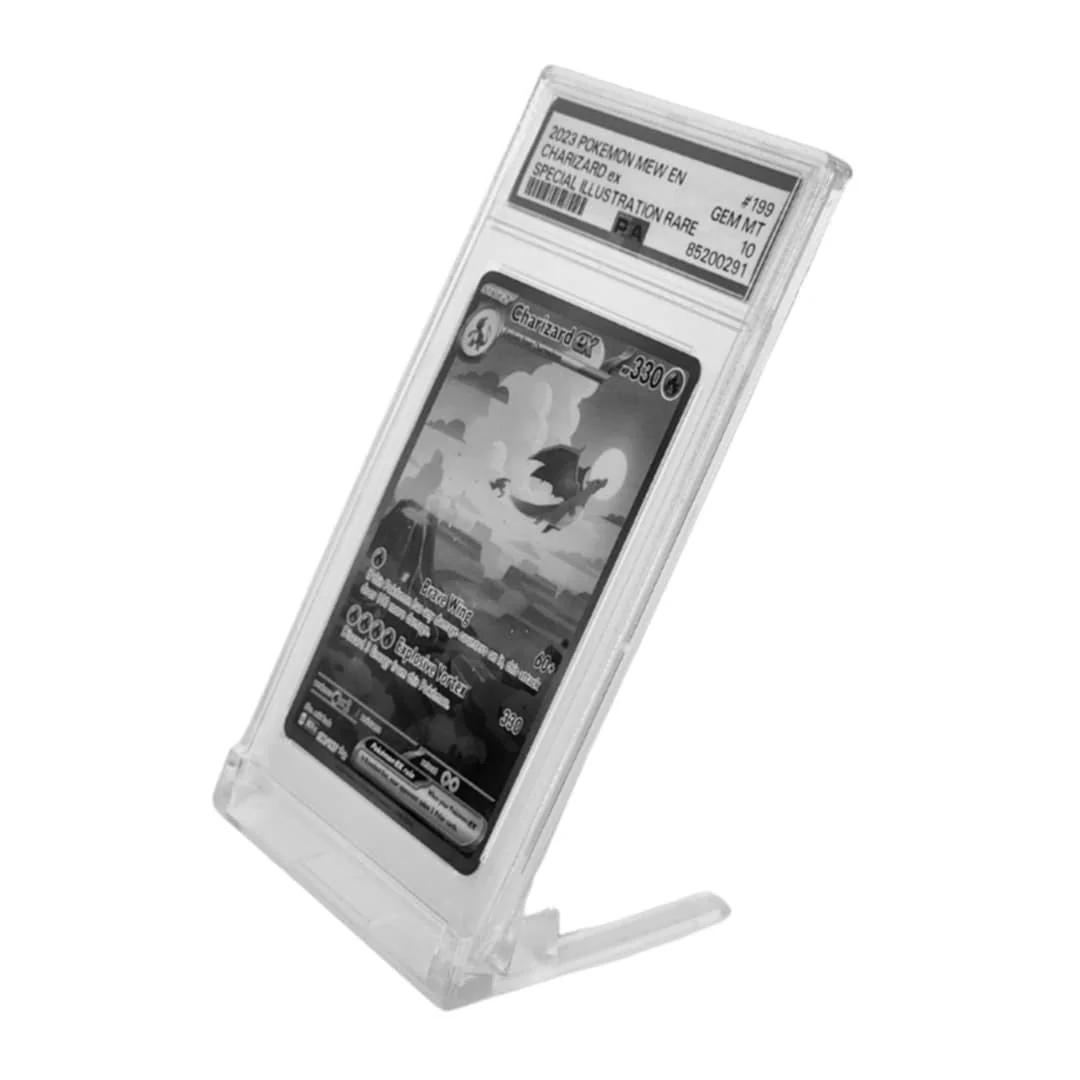card: (283, 271, 703, 876)
